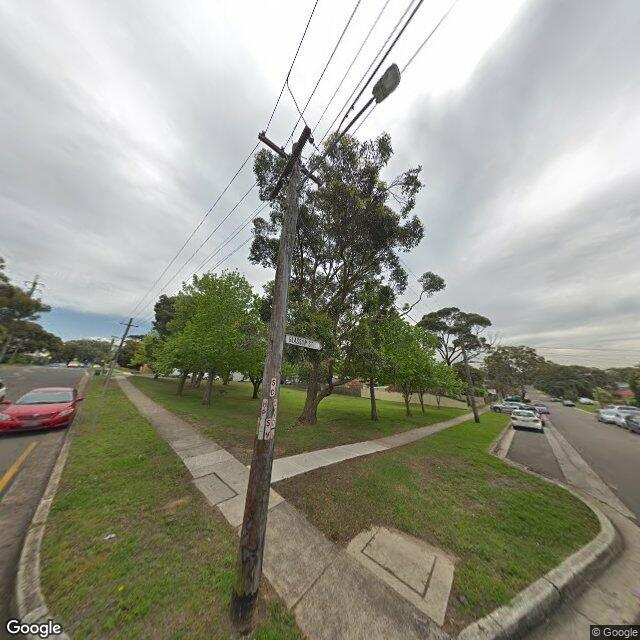HV-transmission: (23, 274, 45, 294)
crossarm: (258, 132, 323, 188), (268, 127, 316, 199), (24, 280, 44, 286), (120, 322, 138, 328), (27, 287, 40, 291)
streetlight: (299, 61, 401, 195)
timber-pole: (229, 153, 301, 630), (0, 283, 37, 362), (103, 318, 134, 388), (461, 342, 480, 423)
